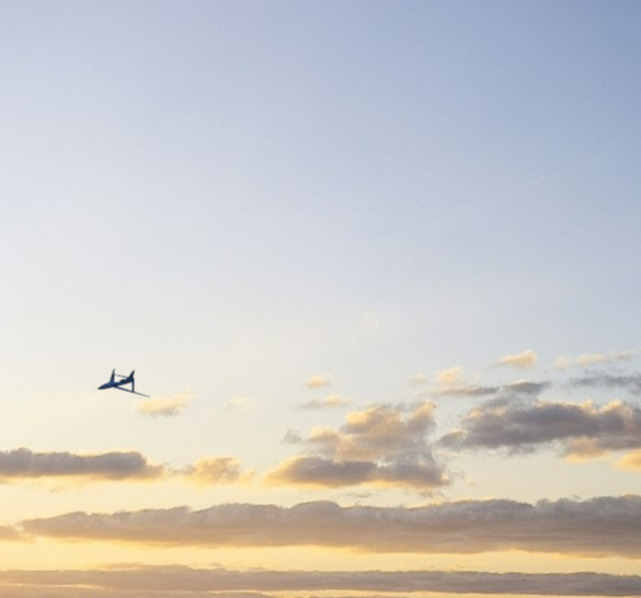military drone: (96, 367, 150, 398)
